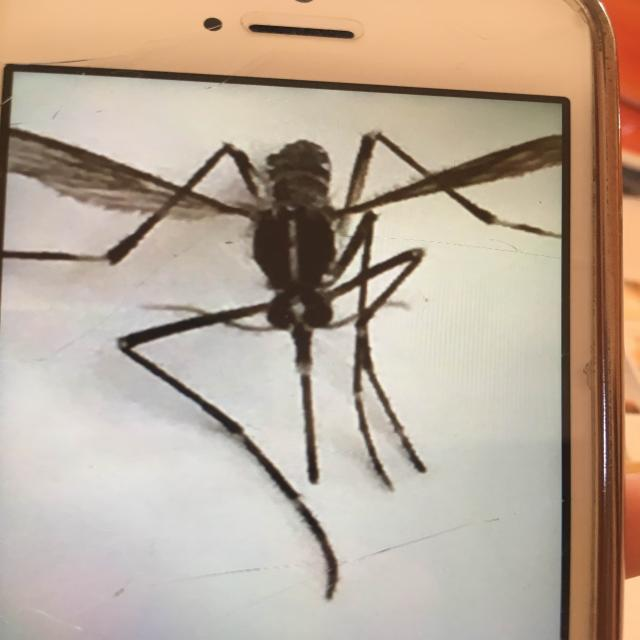albopictus: (26, 73, 564, 567)
